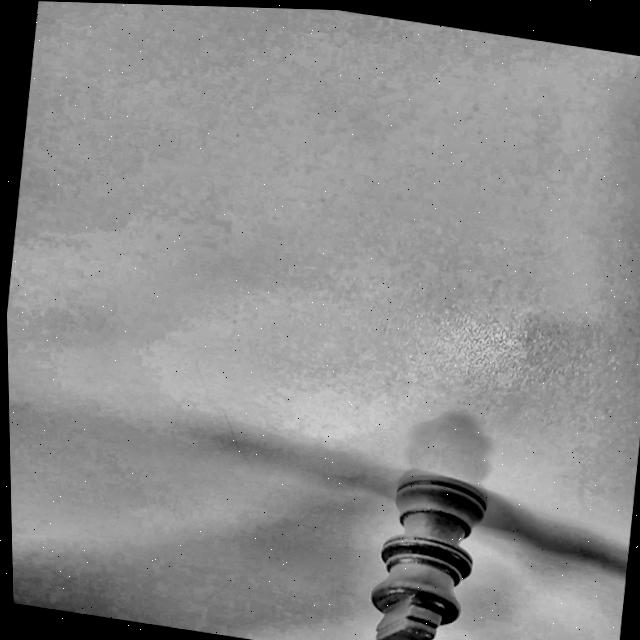black-king: (348, 449, 510, 640)
